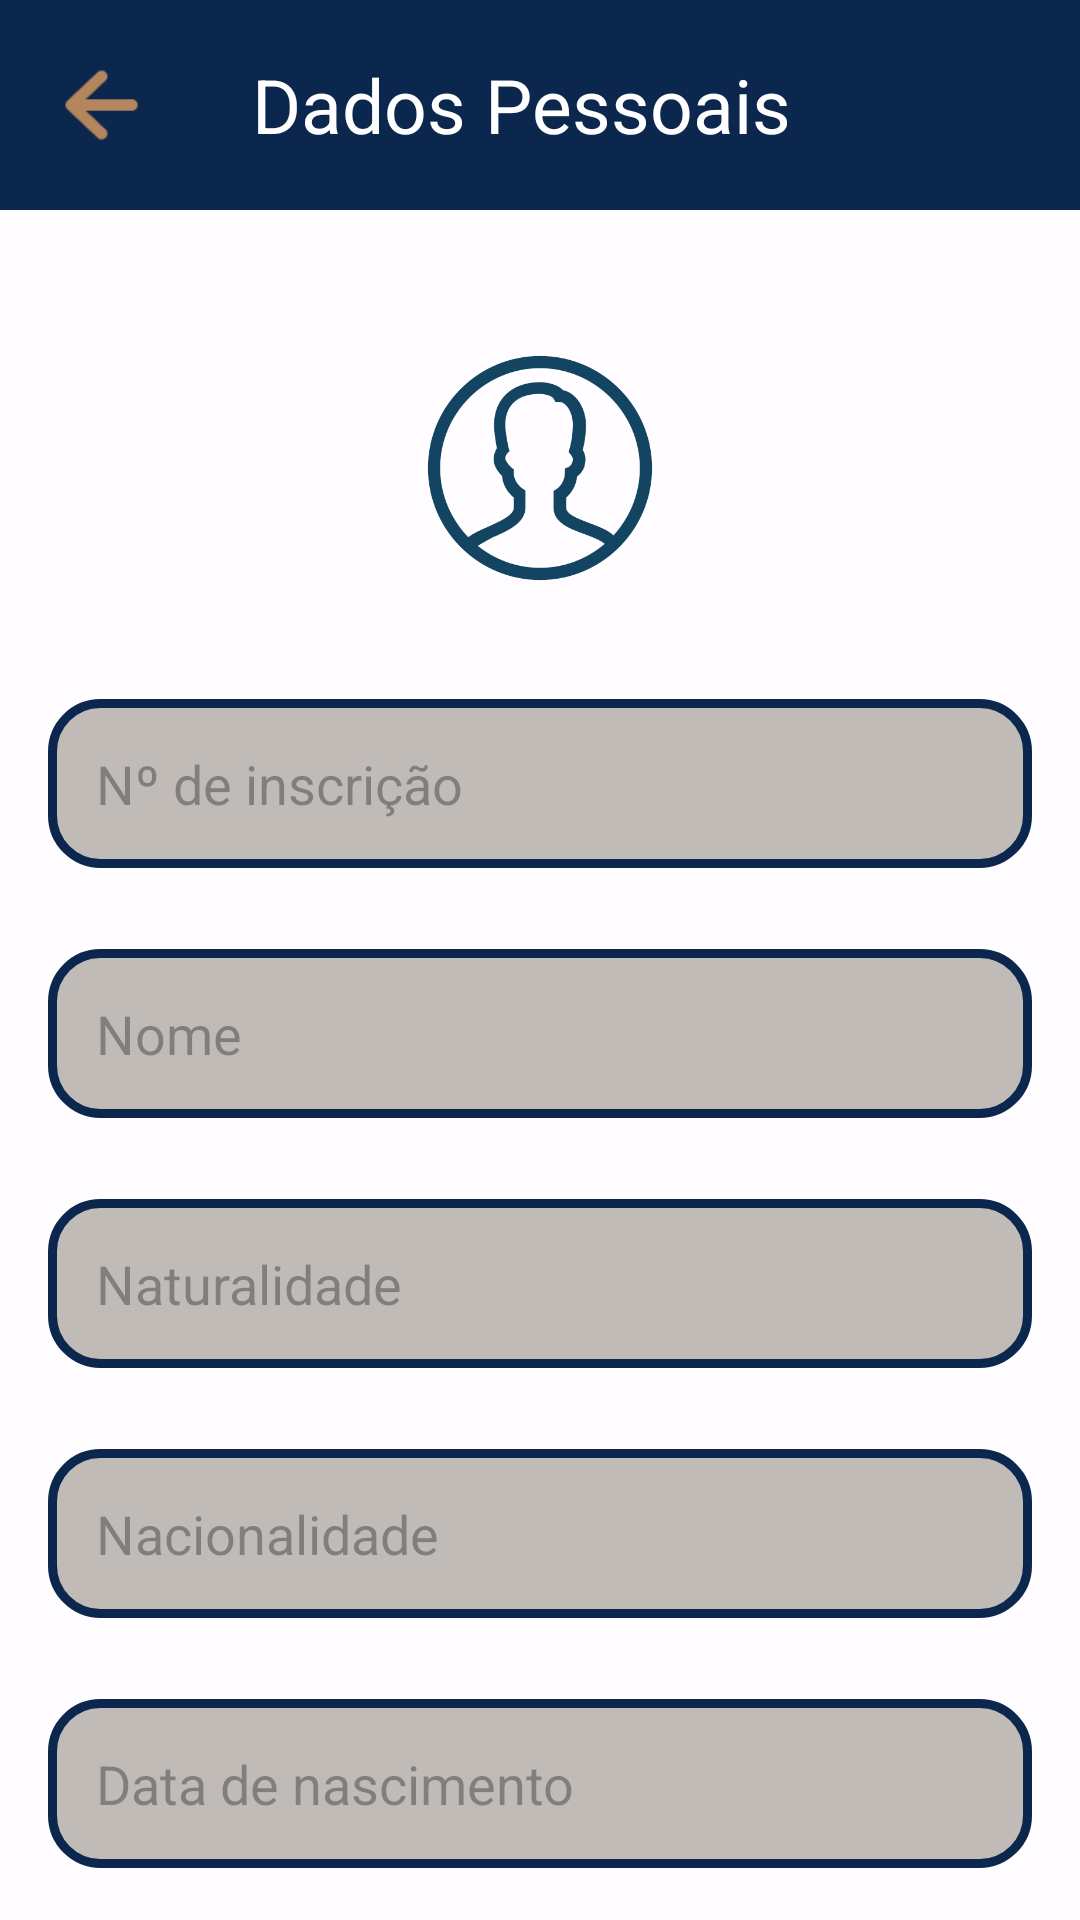

Icon click points for this 1080w x 1920h phone screenshot, format (x=x, y=y):
Voltar: (x=101, y=105)
